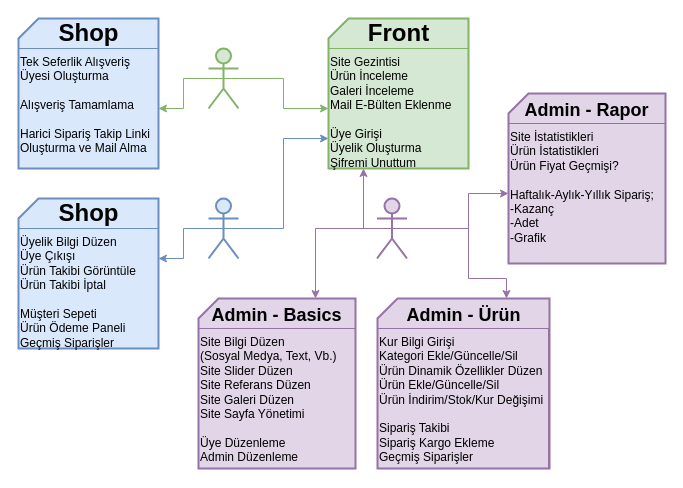
Image size: 683x488. Some labels were removed from this diagram. The centre of each missing label's shape, as x and y in pixels:
"Admin" goes at [392,228].
"Ziyaretçi" goes at [223,78].
"Üye" goes at [223,228].
